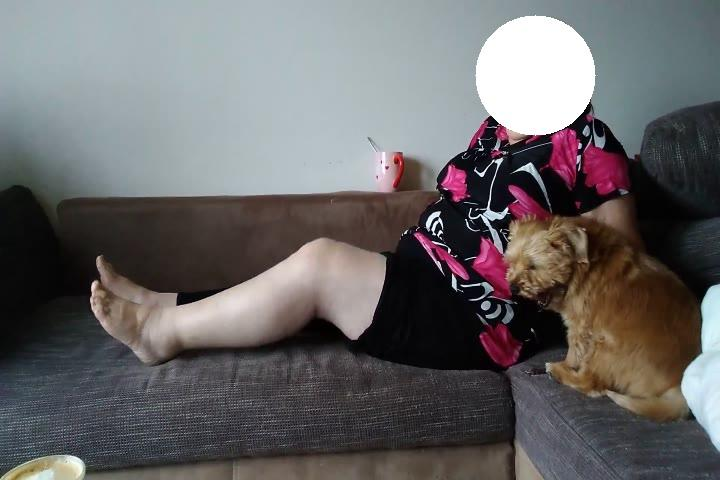lower_body: (86, 230, 509, 377)
